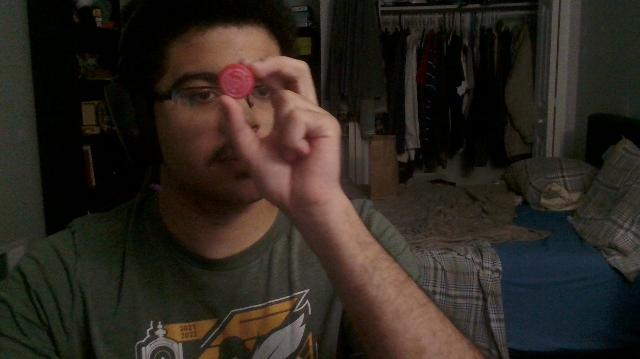cap: (218, 63, 256, 99)
